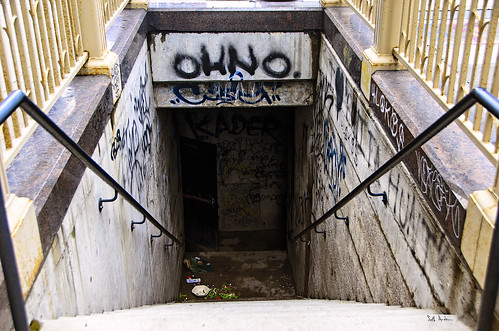graffiti: (298, 67, 387, 230), (164, 35, 314, 76), (160, 79, 305, 103), (182, 111, 283, 144)
